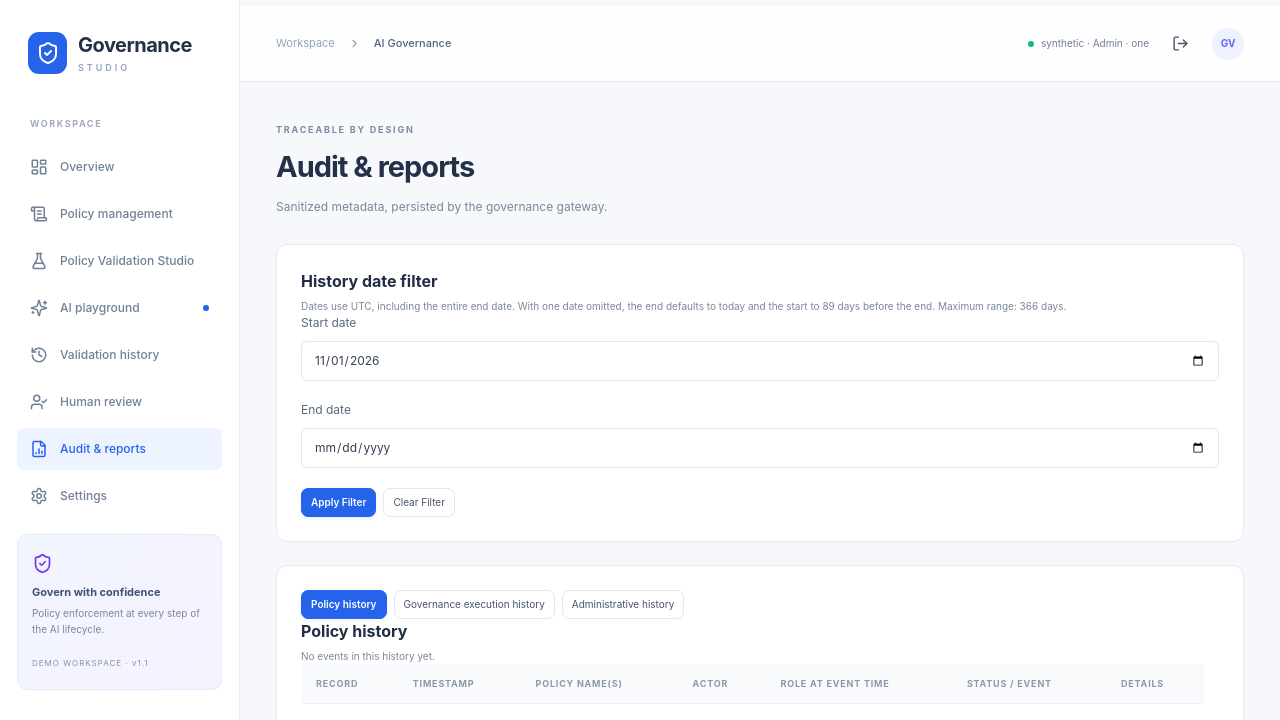
Scenario: applies server filters, preserves them on every tab, and clears them (v2=false)
Earlier steps of the test are not shown.
(page scrolled)
In the date field labelled "End date": (760, 448) [301,428,1219,468], type "2026-11-01"
Click the button "Apply Filter": (339, 502) [301,488,376,517]
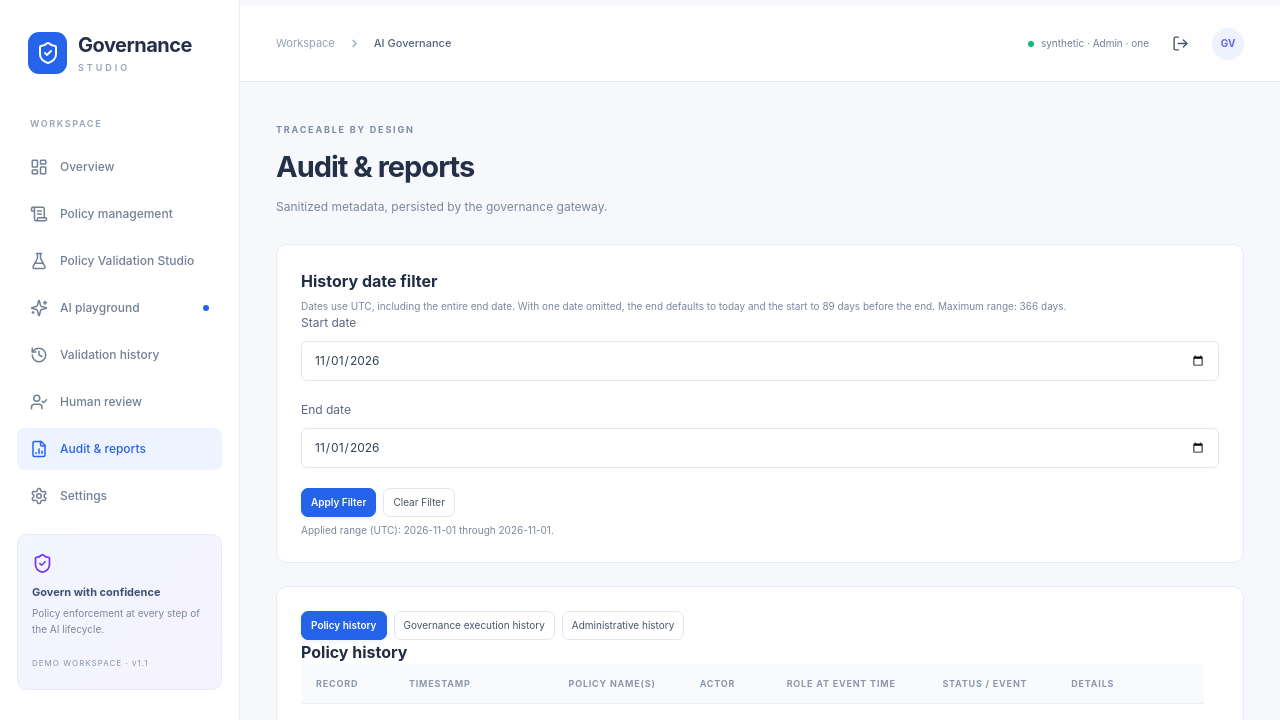
In the date field labelled "Start date": (760, 361) [301,341,1219,381], type "2026-11-02"
In the date field labelled "End date": (760, 448) [301,428,1219,468], type "2026-11-02"
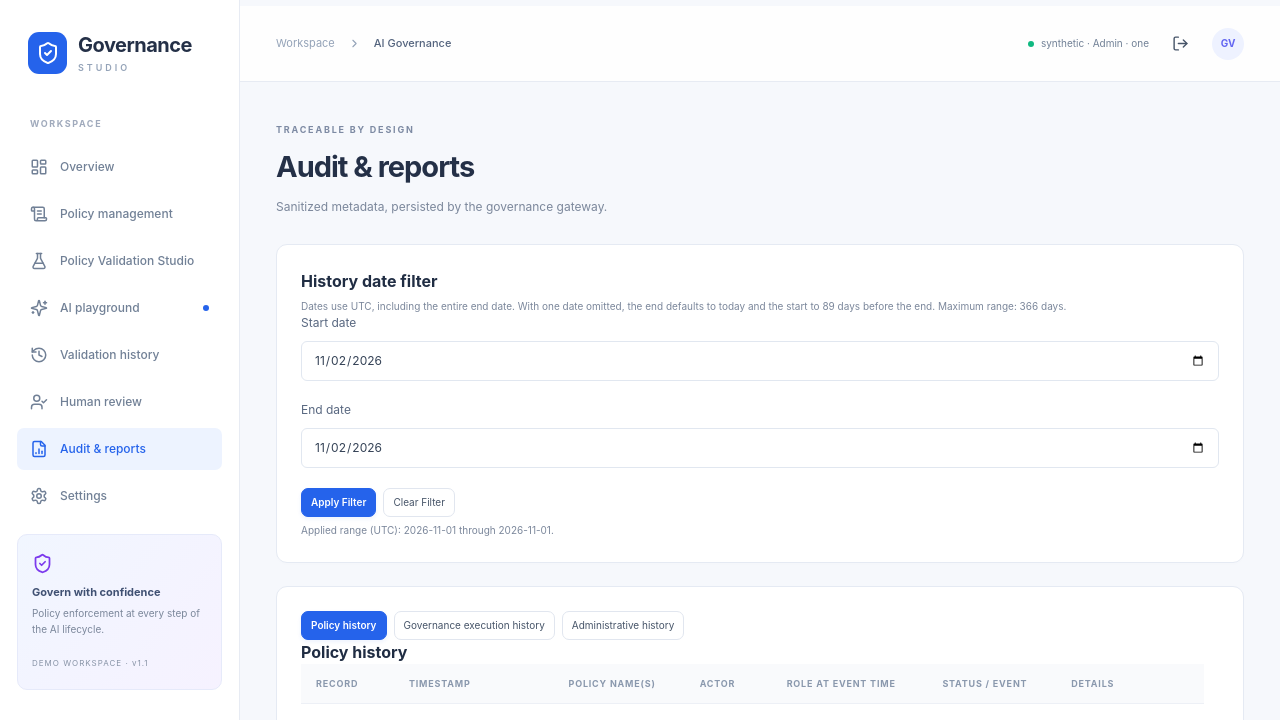
Click the button "Governance execution history": (474, 625) [394,611,555,640]
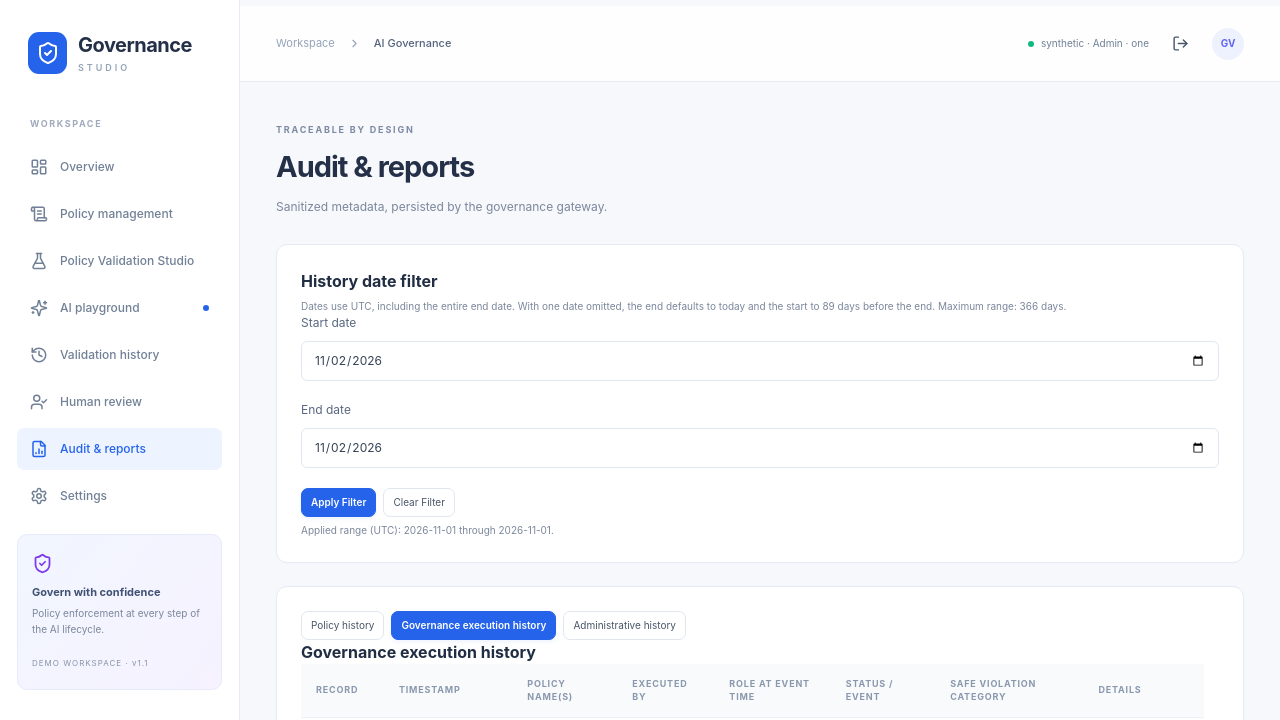
Click the button "Administrative history": (625, 625) [563,611,686,640]
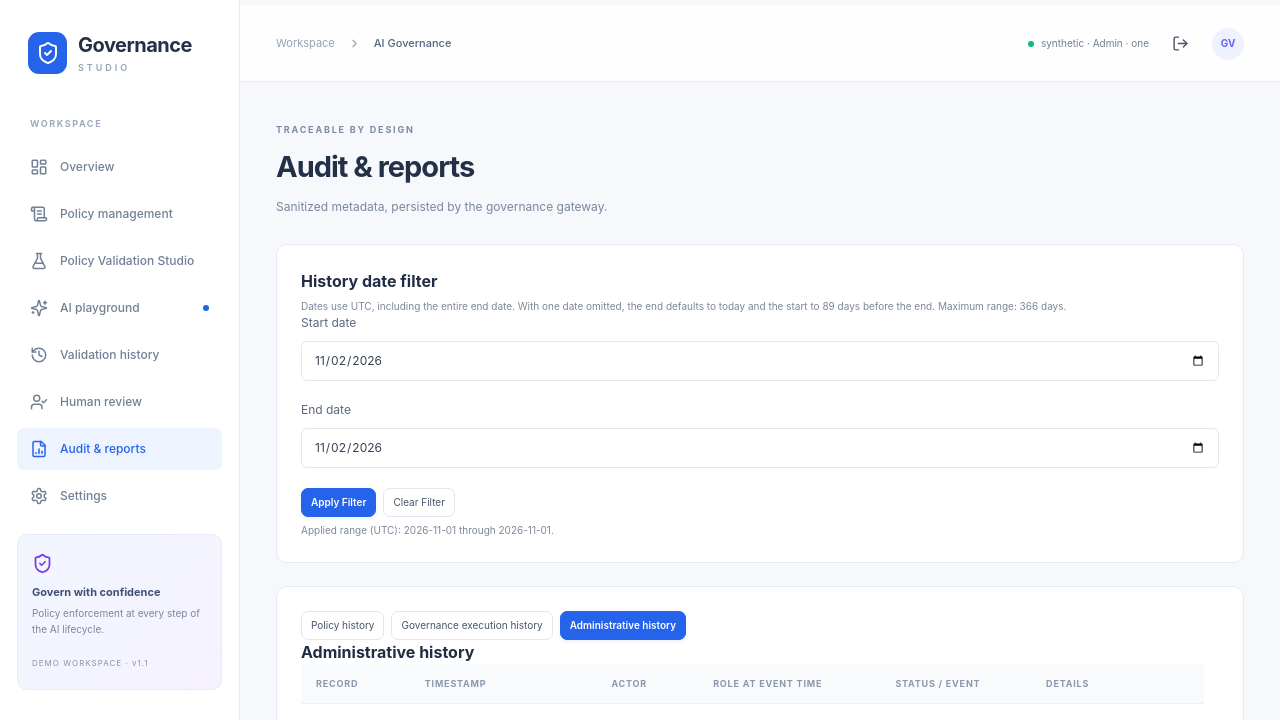
Click the button "Policy history": (343, 625) [301,611,384,640]
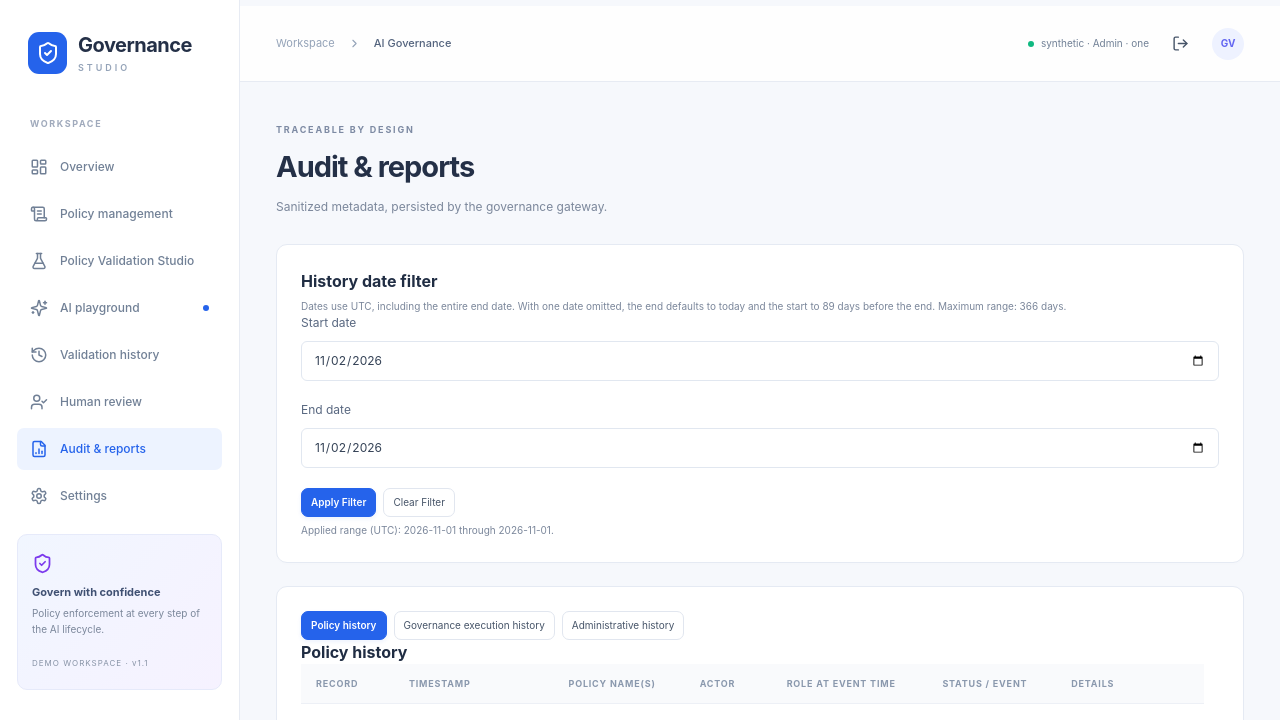
Click the button "Clear Filter": (419, 502) [383,488,455,517]
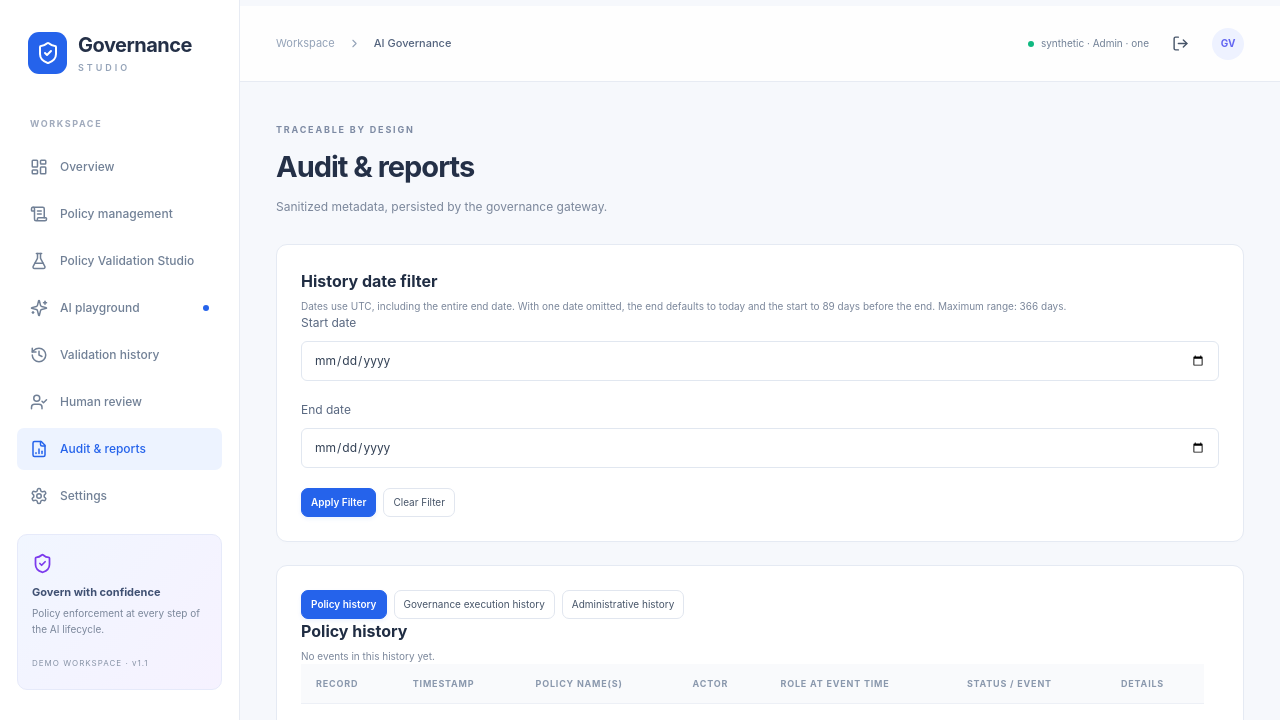
Expected: the text "No events in this history yet." is shown, [301,650,435,662]
Expected: the date field labelled "Start date" is empty, [301,341,1219,381]
